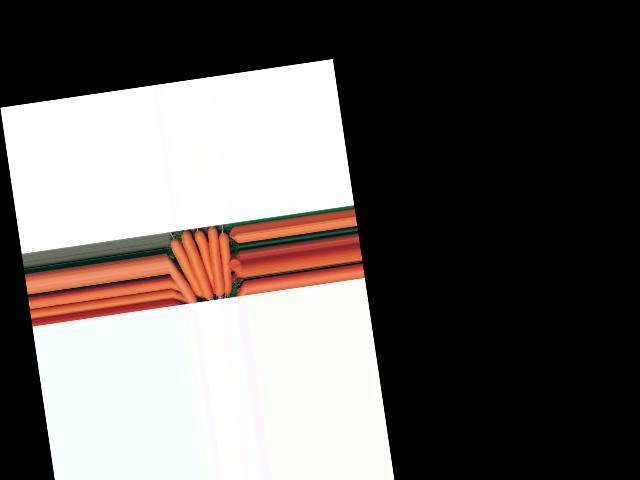carrot: (182, 225, 214, 302)
